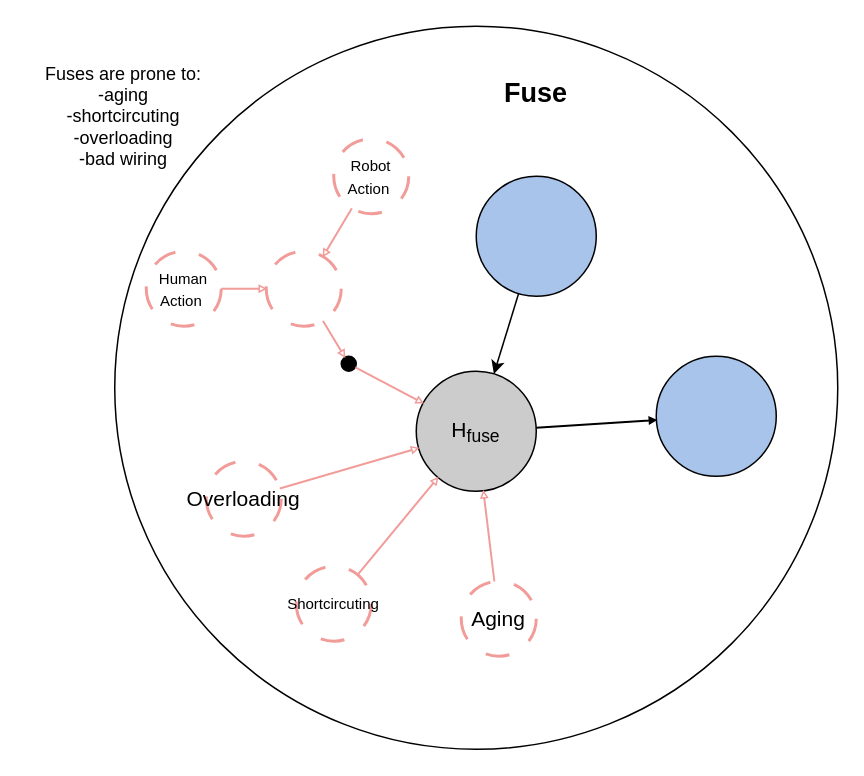
This 864x776 diagram has some shape labels left out. The shapes that lost their labels are listed below. From the top down, each one's box as (x1, y1, x2, y2) in pixels, then its label:
(475, 175, 596, 296): F wiring
(264, 249, 342, 327): Incorrect maintenance procedure
(655, 355, 776, 476): F fuse
